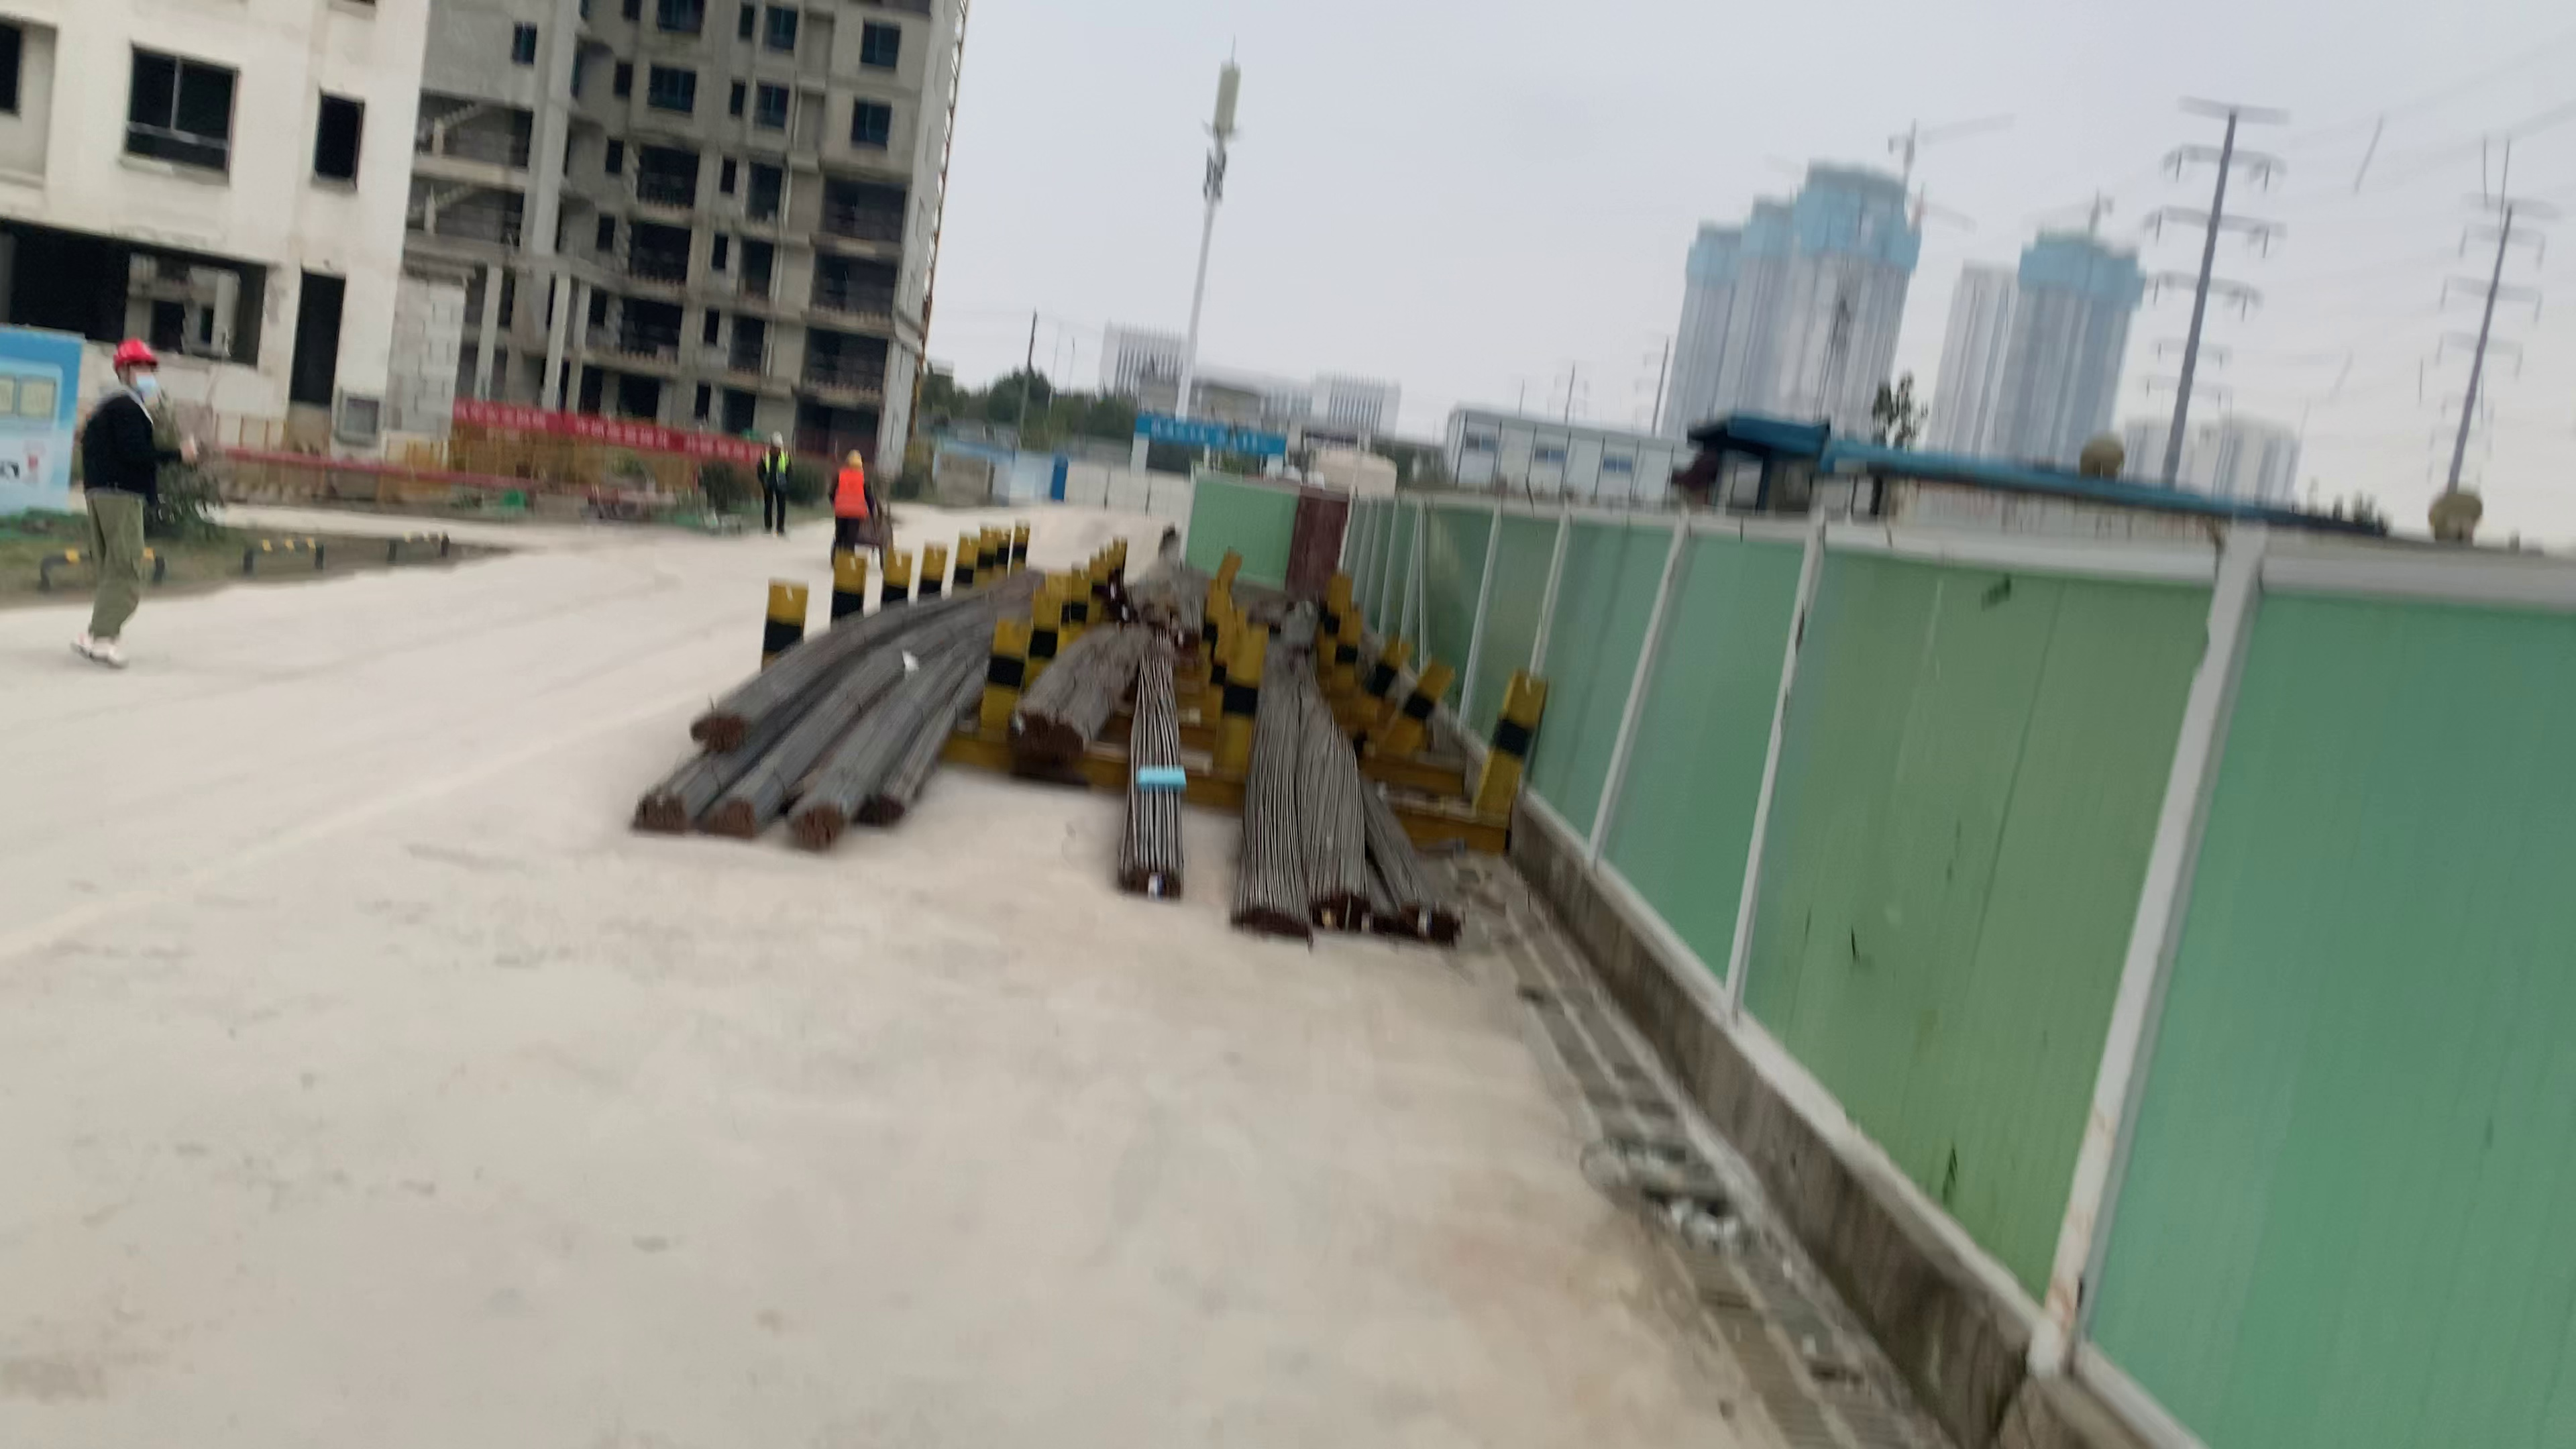rebar: (1373, 901, 1458, 952), (1230, 902, 1306, 947), (628, 786, 688, 837), (1116, 853, 1178, 897), (791, 800, 840, 853), (688, 709, 750, 748), (709, 800, 763, 842), (1318, 890, 1364, 929), (1008, 706, 1044, 750), (1047, 722, 1085, 763), (869, 791, 908, 828)
